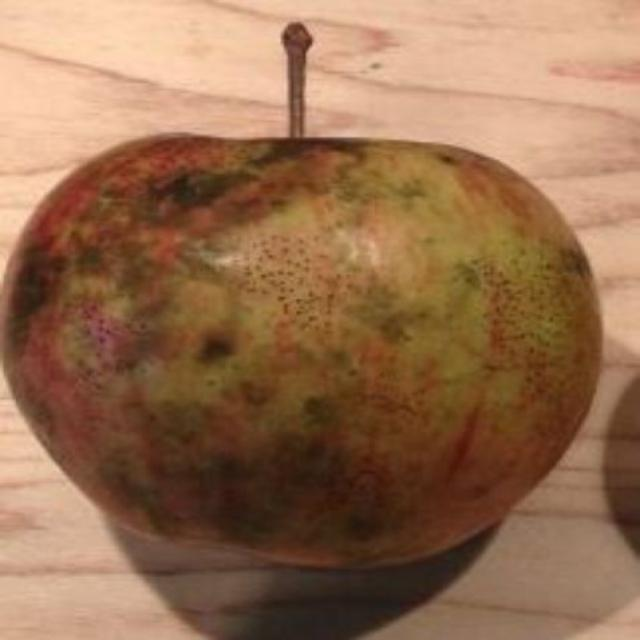Rotten Apple: (0, 98, 632, 605)
